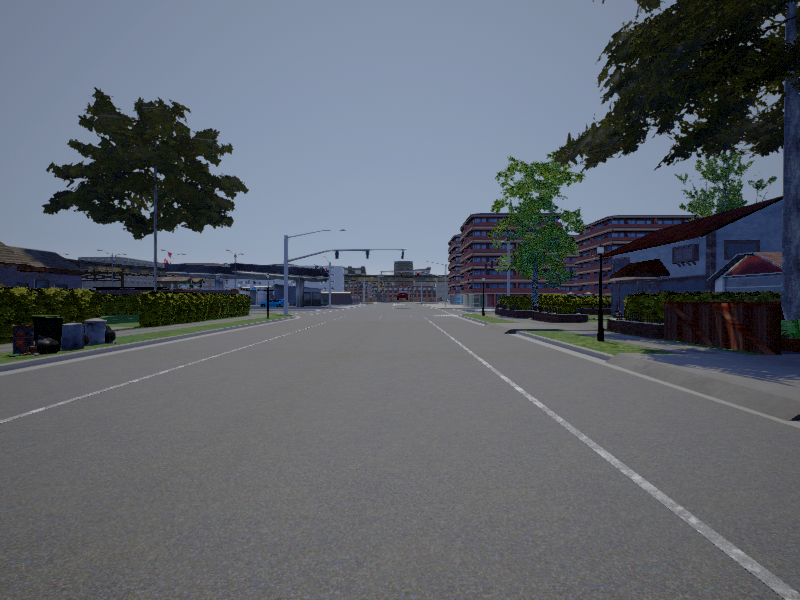Attacker: (396, 292, 410, 301)
